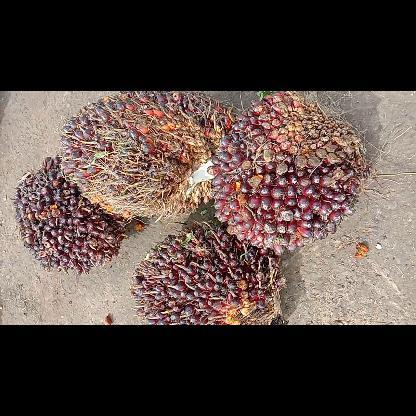Kurang masak: (207, 90, 368, 254), (56, 91, 230, 221), (129, 222, 285, 324), (14, 156, 126, 272)
